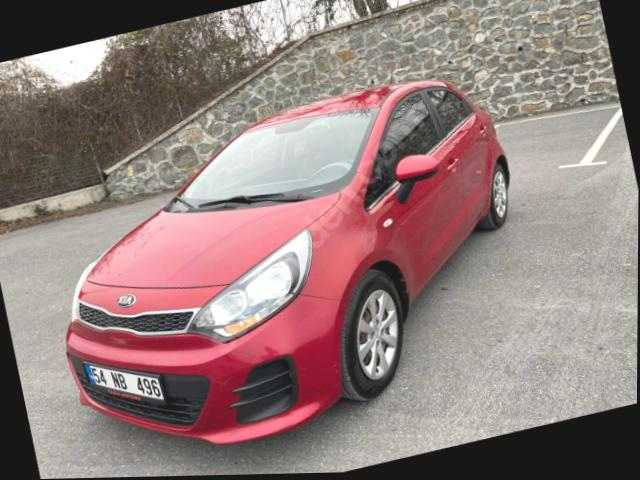plaka: (85, 364, 164, 400)
